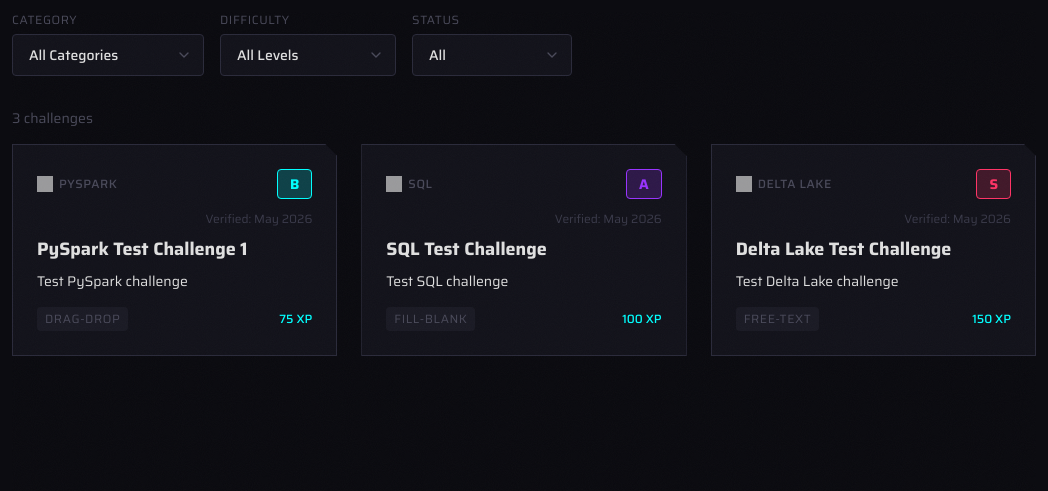
Scenario: ChallengeGridClient › empty state › shows empty state when no challenges match filters
Select "PySpark" in the dropdown labelled "Category". click: (108, 55)
box: [12, 34, 204, 76]
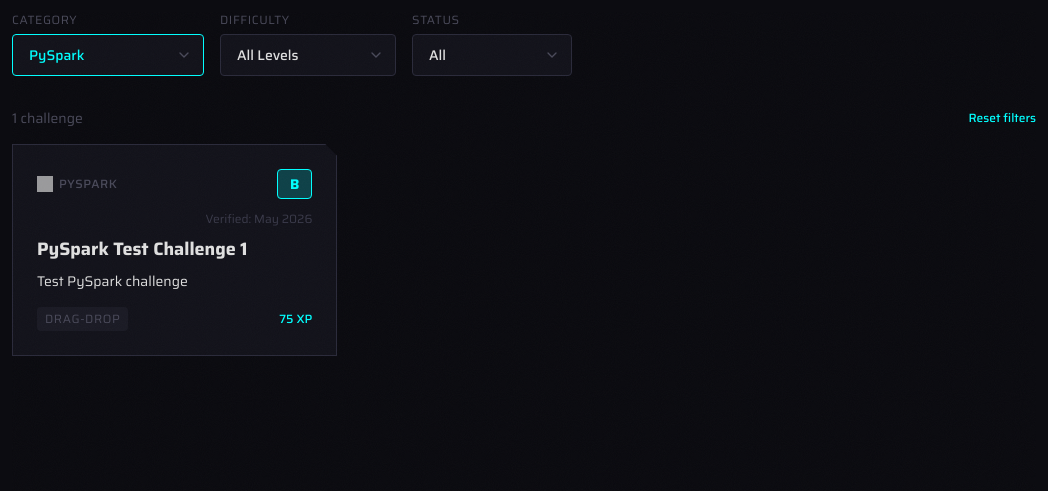
Select "S — Advanced" in the dropdown labelled "Difficulty". click: (308, 55)
box: [220, 34, 396, 76]
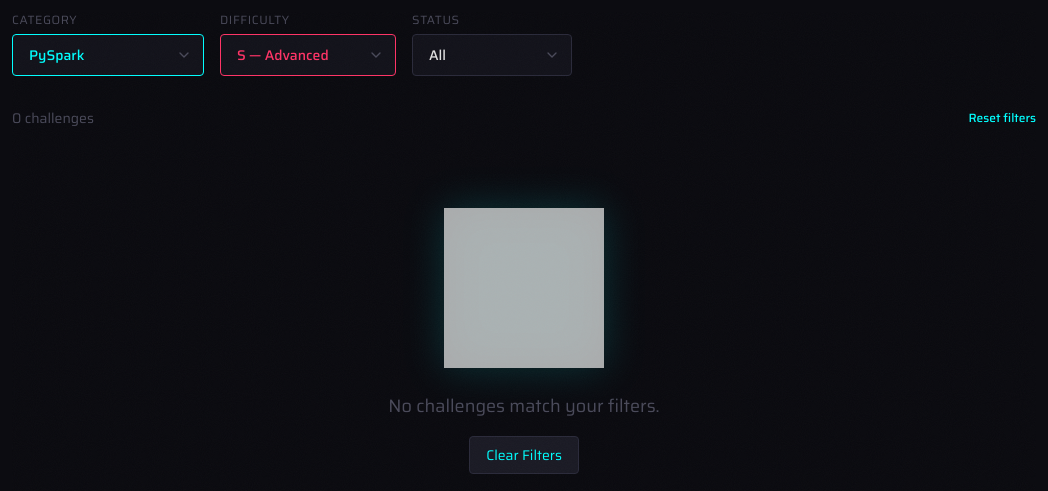
Expected: the text "No challenges match your filters." is shown, [388, 392, 660, 420]
